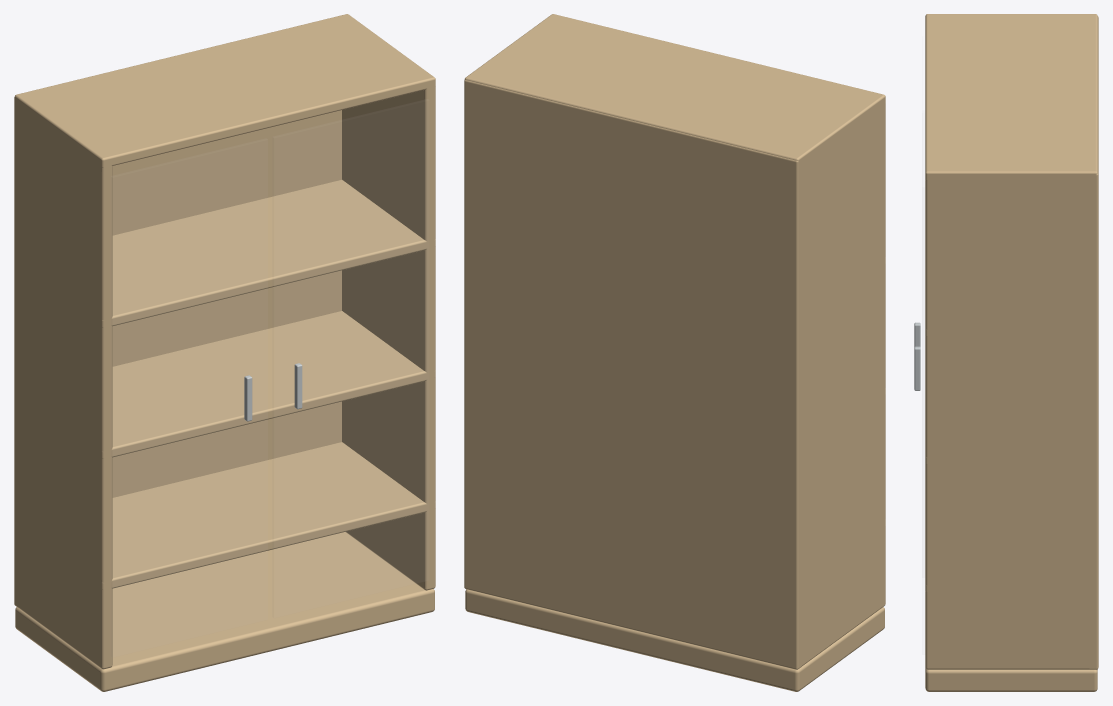
Rendered from candlemaking-and-soap-workshop-finished-goods-cabinet-d4fd5e28__30691.glb.
3 renders of one model, left to right at view 1: azimuth 30°, elevation 25°; view 2: azimuth 150°, elevation 25°; view 3: azimuth 270°, elevation 25°, orthographic. The views are drawn at different scales.
Visible parts, largest first — view 1: finished-goods-cabinet; view 2: finished-goods-cabinet; view 3: finished-goods-cabinet.
Boxes of the visible parts, x1,y1,x2,y2 form: finished-goods-cabinet: (14,14,435,691); finished-goods-cabinet: (464,14,885,691); finished-goods-cabinet: (914,14,1098,691).
Bounding box in the file's own units: 1.2 × 1.84 × 0.5875.
